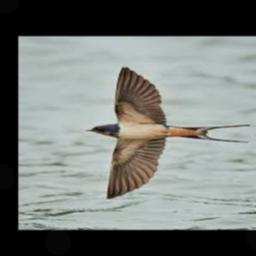Swallow: (85, 66, 249, 198)
